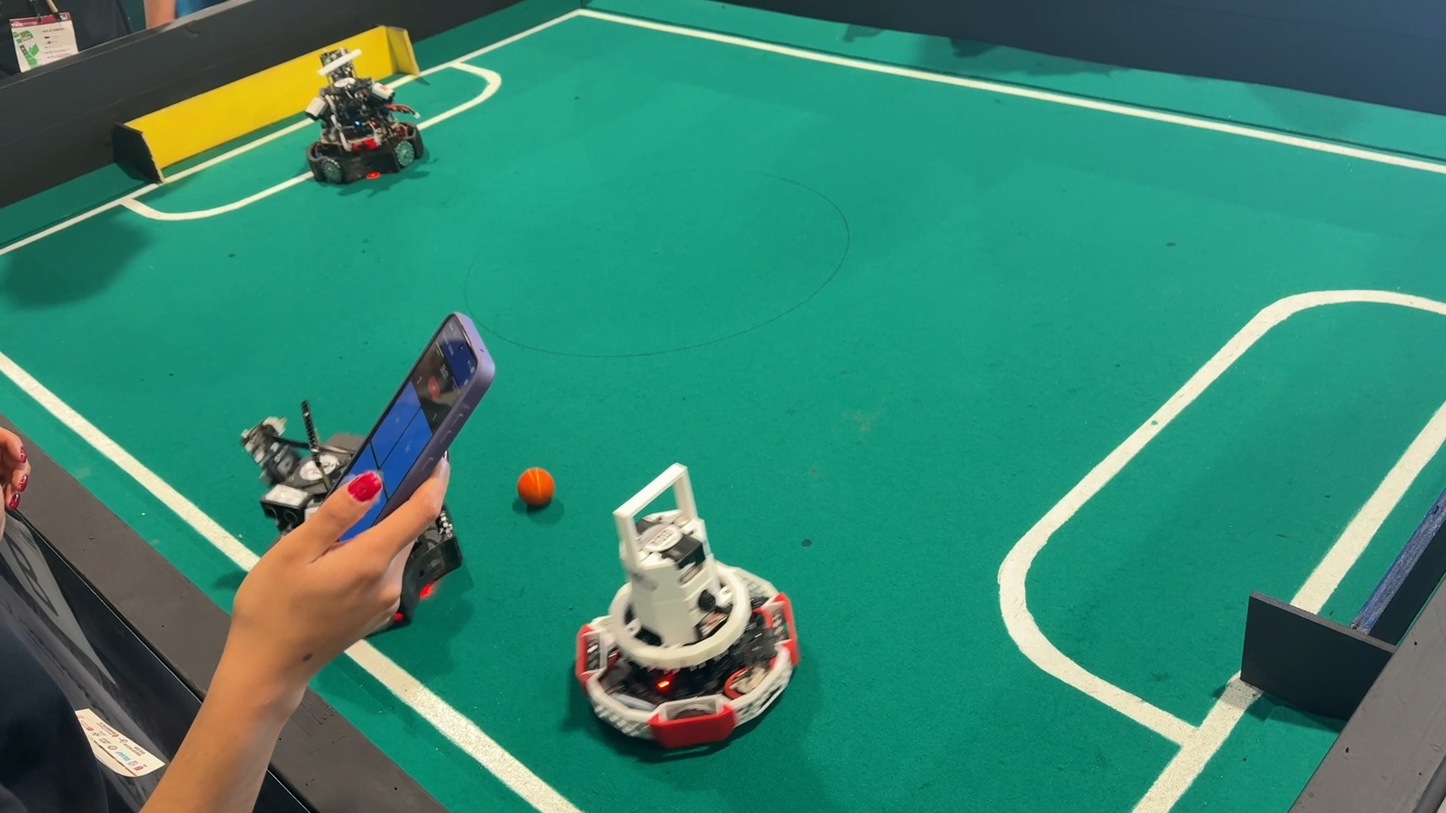Robot: (562, 434, 797, 777), (195, 400, 391, 541), (278, 30, 432, 203)
pelota: (515, 463, 564, 518)
